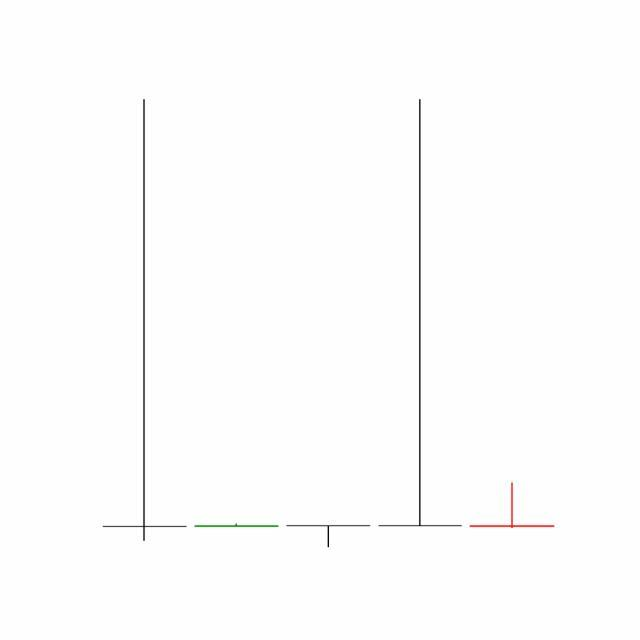Gravestone Doji: (466, 482, 559, 530)
